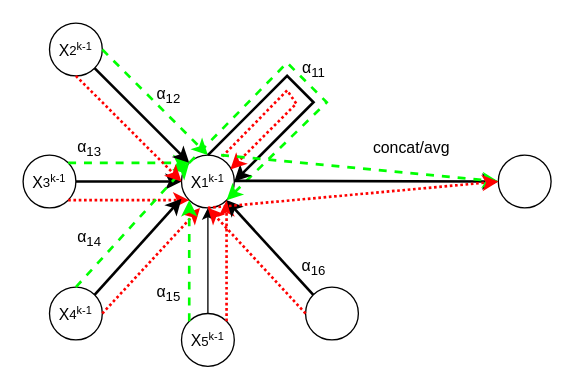
Some shapes in this 574 by 389 pixel diagram are drawn without their labels. The centre of each missing label's shape, as x and y in pixels:
"X 1 k" belongs at (524,181).
"X 6 k-1" belongs at (331,313).
